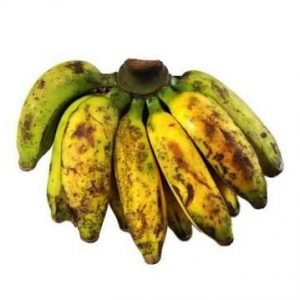banana: (146, 98, 228, 247), (173, 95, 277, 206), (8, 60, 101, 170), (111, 107, 173, 272), (63, 95, 121, 259), (187, 66, 287, 159)
